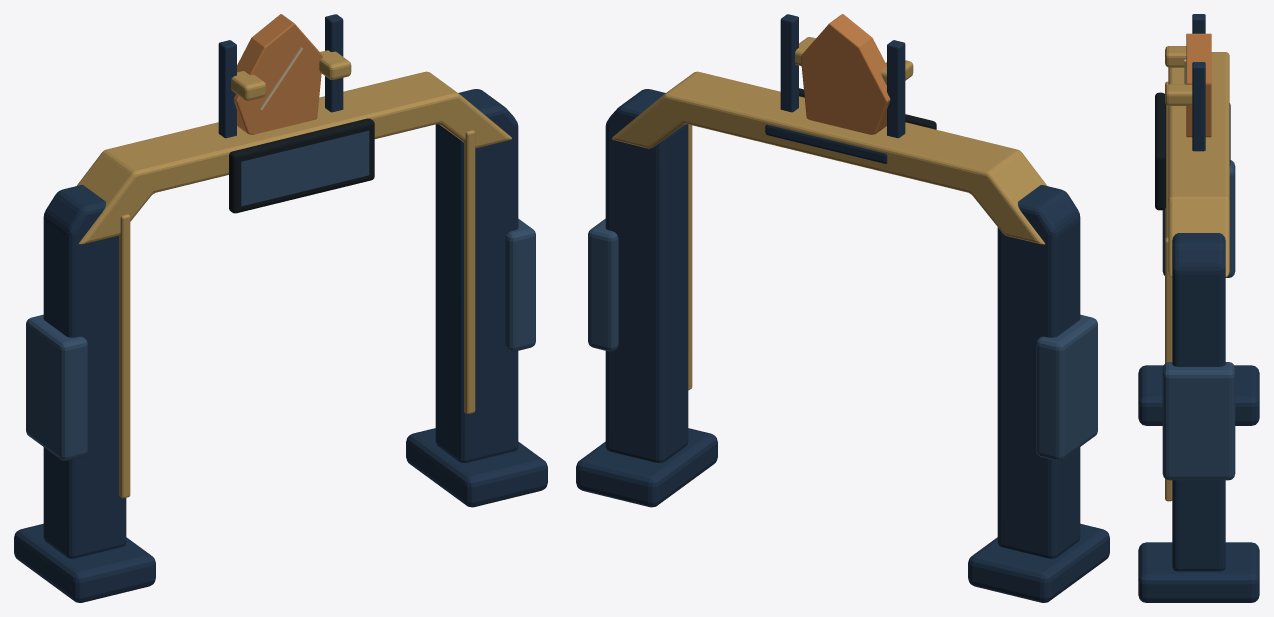
Rendered from FIRE_RATE_CELL_GATE.hi.glb.
The picture shows the model from 3 angles, left to right: view 1: azimuth 30°, elevation 25°; view 2: azimuth 150°, elevation 25°; view 3: azimuth 270°, elevation 25°; orthographic projection. The views are drawn at different scales.
Parts seen in each view (by area): view 1: Body_Mesh, SignSurface; view 2: Body_Mesh; view 3: Body_Mesh.
Part boxes in pixels (x1,y1,x2,y2): Body_Mesh: [14, 14, 547, 602]; SignSurface: [241, 130, 369, 206]; Body_Mesh: [576, 14, 1109, 602]; Body_Mesh: [1138, 14, 1259, 602].
Bounding box in the file's own units: 3.23 × 3.28 × 0.77.
